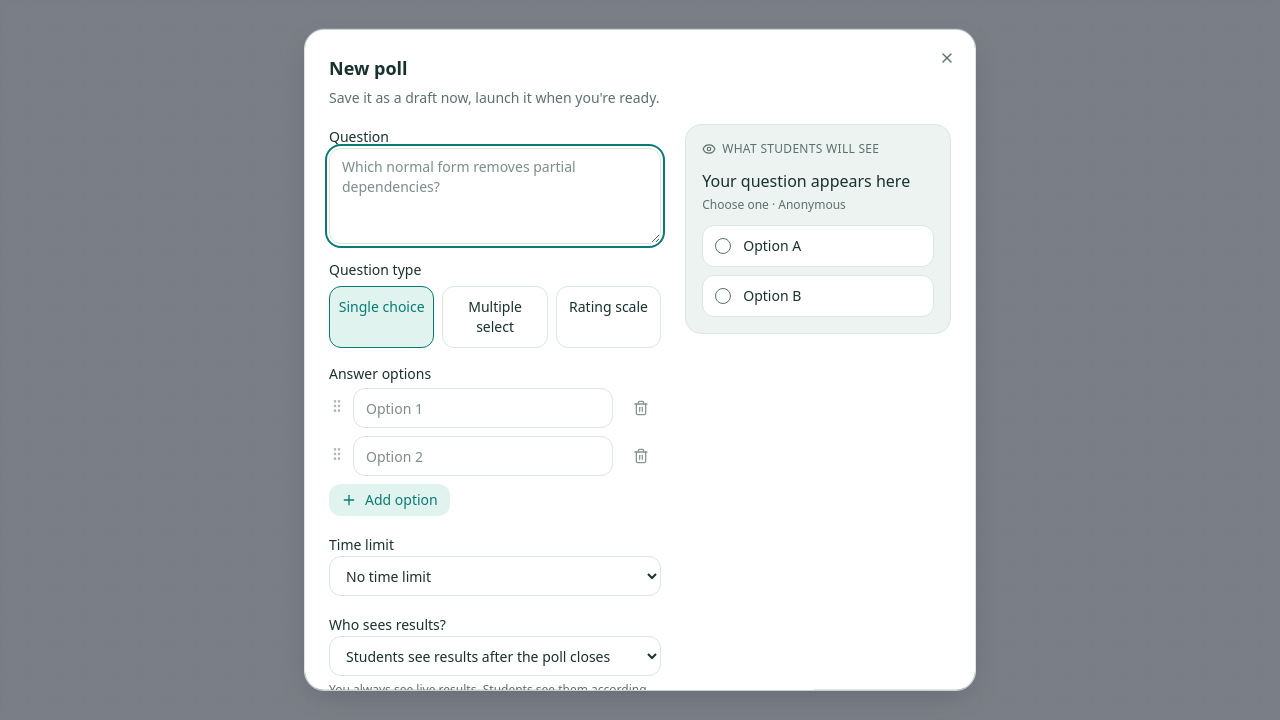
Test: poll builder › switches to a rating scale without answer options
Click the radio button labelled "Rating scale": (608, 317) left=556, top=286, right=661, bottom=348
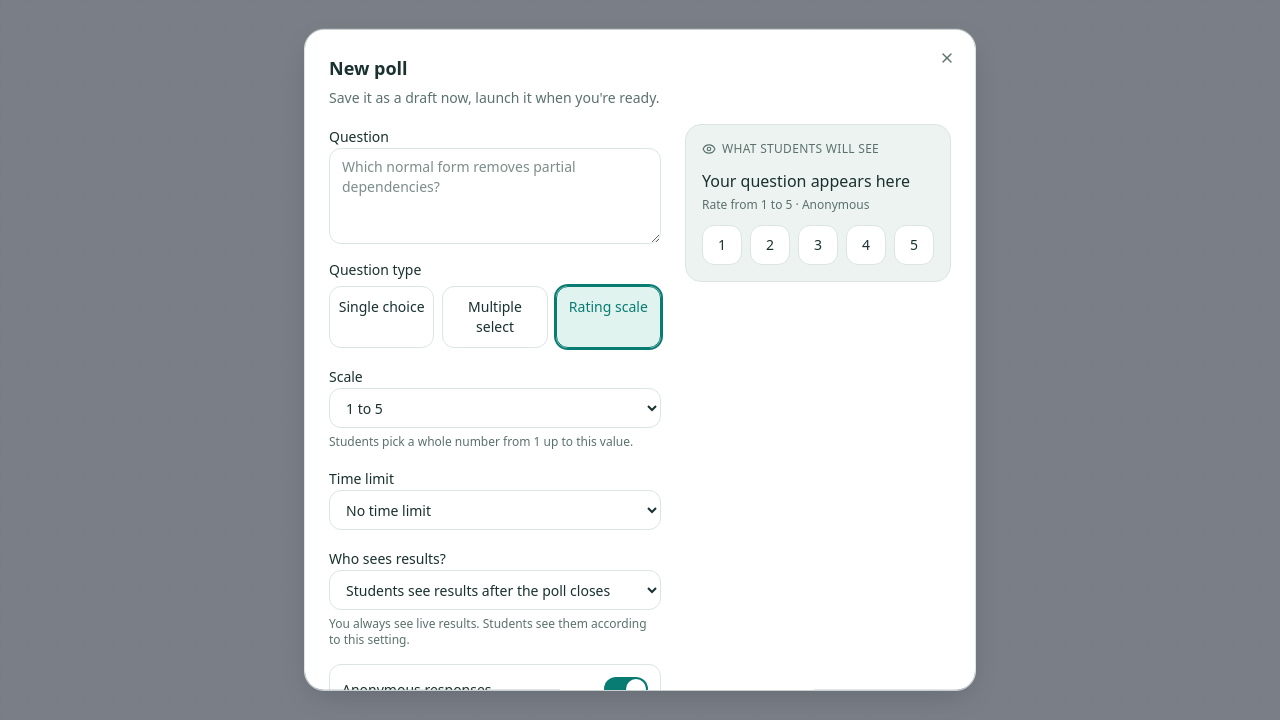
Expected: the field labelled "Option 1" is not shown
Expected: the dropdown labelled "Scale" is shown, left=329, top=388, right=661, bottom=428
